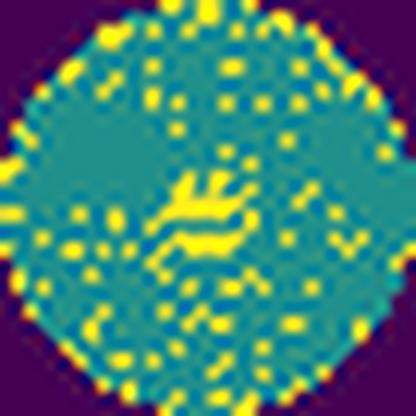Center: (144, 166, 260, 286)
